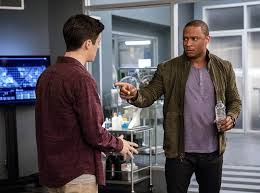Caution: (36, 14, 241, 193)
